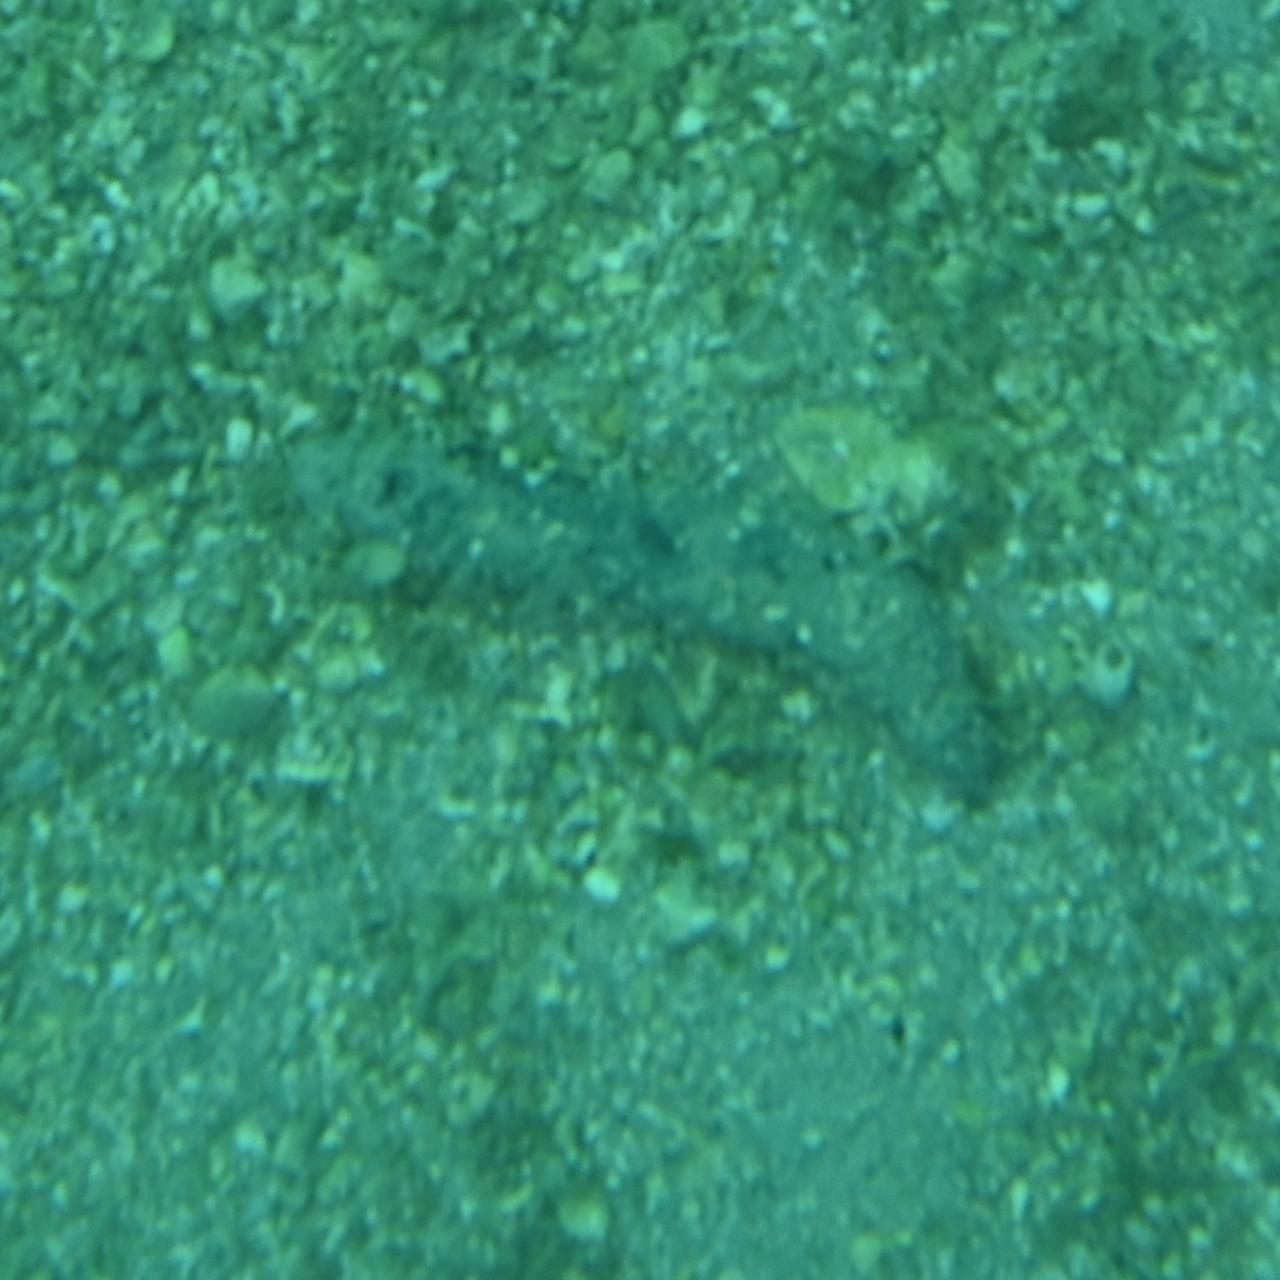Holothuria tubulosa: (253, 430, 1027, 850)
